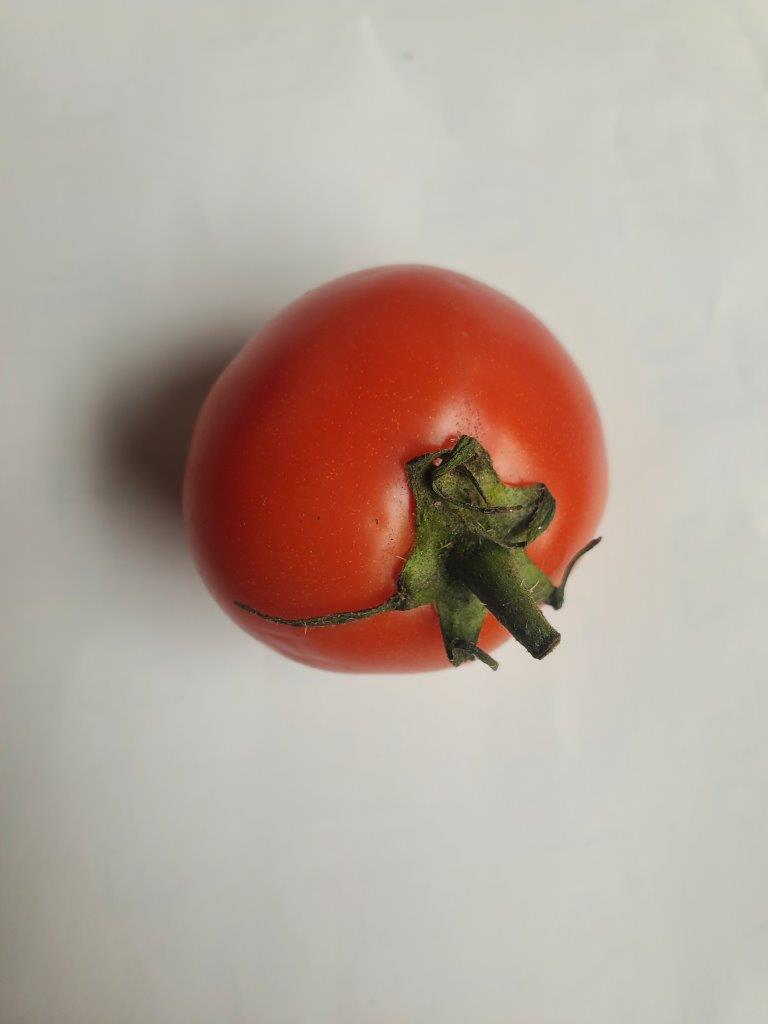tomato: (184, 266, 606, 670)
